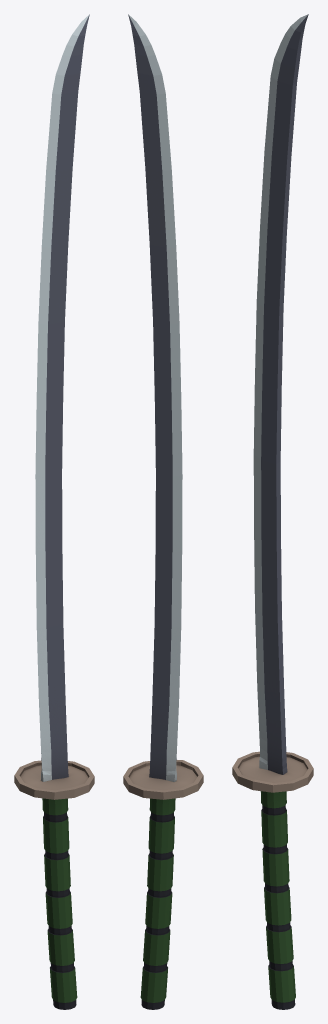
File: katana.fbx
3 views of the same model, side by side, from view 1: azimuth 30°, elevation 25°; view 2: azimuth 150°, elevation 25°; view 3: azimuth 330°, elevation 25° (orthographic).
Visible parts, largest first — view 1: Katana; view 2: Katana; view 3: Katana.
Boxes of the visible parts, x1,y1,x2,y2 form: Katana: (14,14,94,1009); Katana: (123,14,203,1009); Katana: (232,14,313,1009).
Size of the model in its own units: 5.08 by 5.02 by 68.09.
